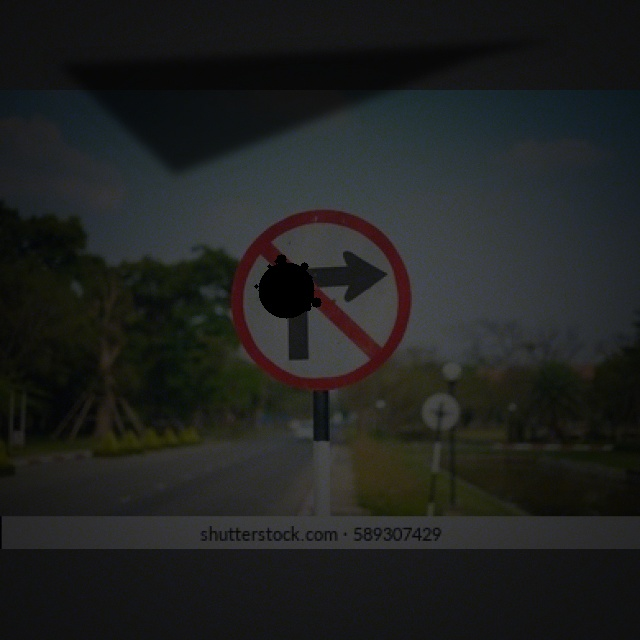Right_Turn_Prohibited: (231, 210, 414, 393)
